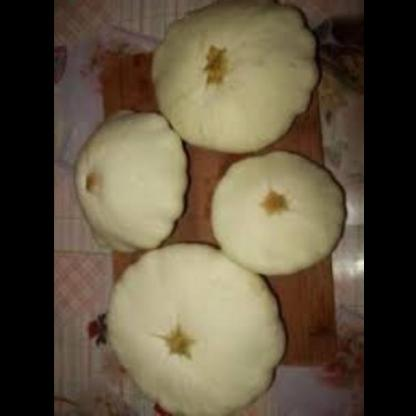squash-patisson: (95, 238, 292, 416), (146, 1, 320, 151), (205, 143, 345, 277), (65, 115, 183, 252)
